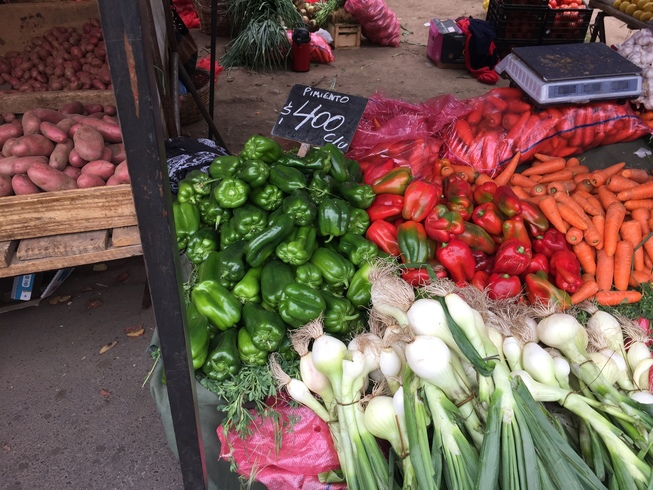precio: (273, 87, 372, 157)
